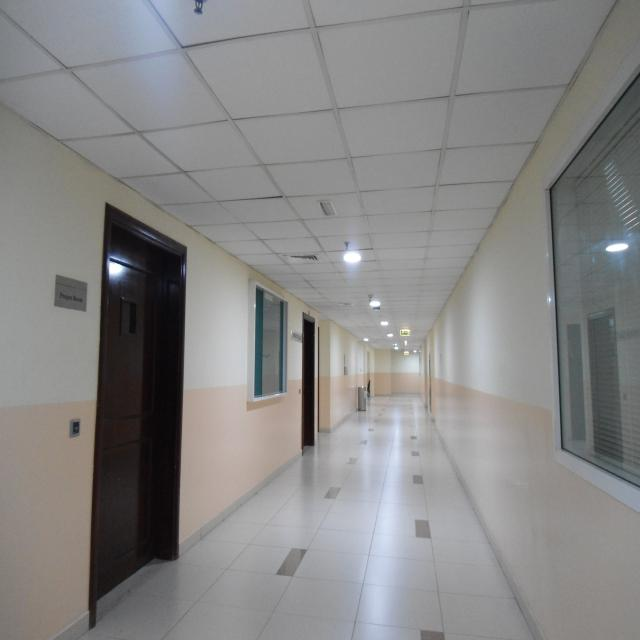board: (237, 274, 293, 408)
door: (84, 197, 191, 631), (298, 307, 316, 459)
exitLight: (395, 326, 414, 338)
sign: (52, 269, 92, 316)
wall: (0, 97, 366, 640), (419, 1, 640, 640), (366, 346, 424, 399)
window: (539, 54, 640, 504)
